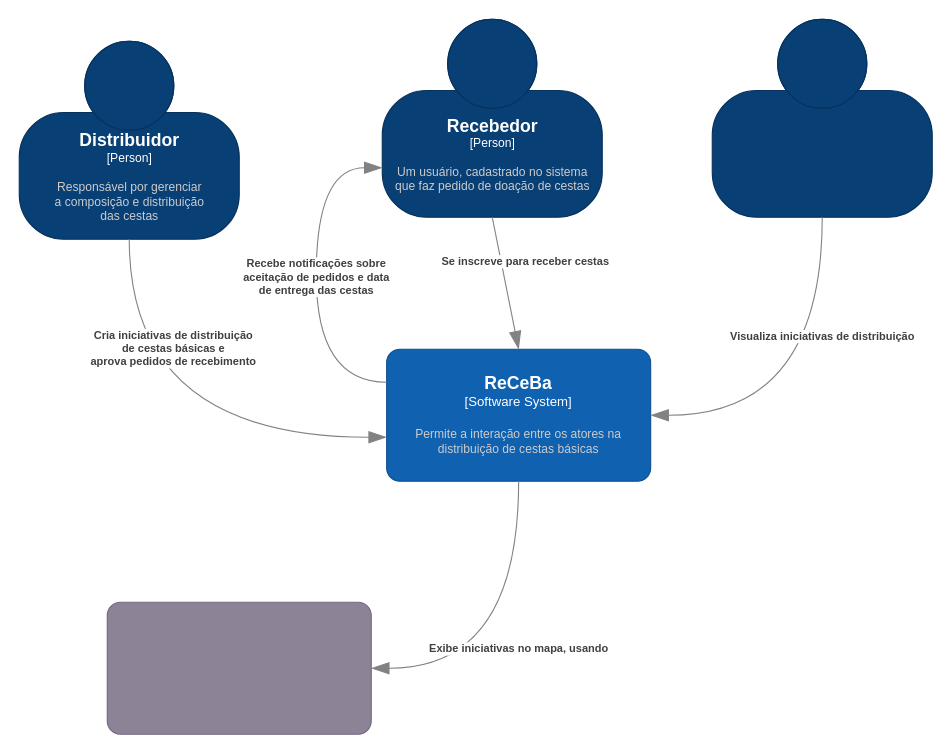
This 952x754 diagram has some shape labels left out. The shapes that lost their labels are listed below. From the top down, each one's box as (x1, y1, x2, y2) in pixels, then its label:
(711, 18, 932, 217): Visitante [Person] Um usuário não cadastrado no sistema
(106, 601, 371, 734): Open Street Maps [Software System] Permite a visualização de mapas
